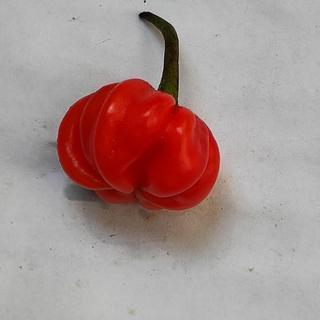Grade-B: (46, 72, 223, 212)
